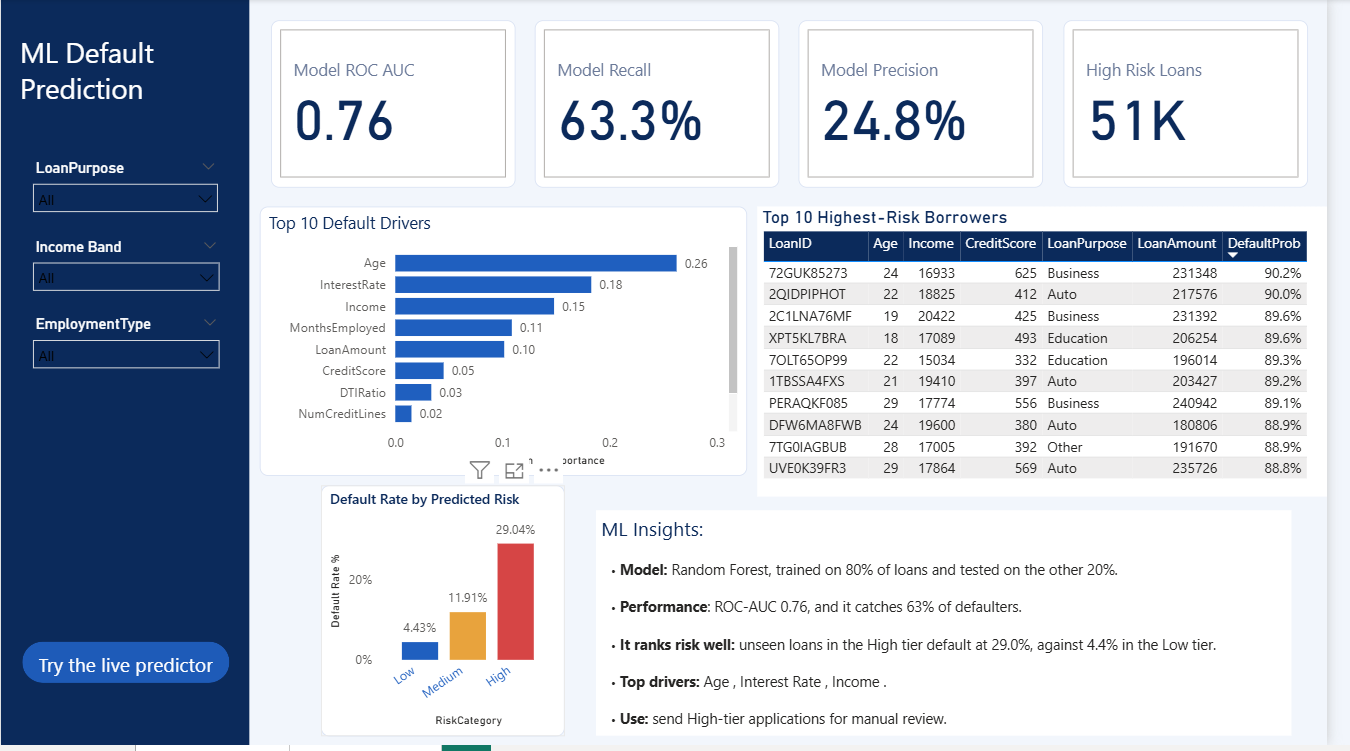

Layout of this report page (visuals, bound fields, positions):
{"tool":"powerbi","page":{"name":"ML Predictions","canvas":[1280,720],"ordinal":1},"visuals":[{"type":"shape","box":[0,0,239.7,720.2],"z":0},{"type":"slicer","fields":{"Values":["Loan_default.LoanPurpose"]},"box":[20.6,149.6,199,64.5],"z":1000},{"type":"slicer","fields":{"Values":["Loan_default.Income Band"]},"box":[20.6,225,200.3,64],"z":2000},{"type":"slicer","fields":{"Values":["Loan_default.EmploymentType"]},"box":[20.6,300.5,200.3,64],"z":3000},{"type":"textbox","box":[13.5,28.1,214,94.2],"z":4000},{"type":"cardVisual","fields":{"Data":["Loan_default.Model ROC AUC"]},"box":[260,20,236,161.9],"z":5000},{"type":"cardVisual","fields":{"Data":["Loan_default.Model Recall"]},"box":[515,20.6,236,161.9],"z":6000},{"type":"cardVisual","fields":{"Data":["Loan_default.Model Precision"]},"box":[770,20,236.2,161.2],"z":7000},{"type":"cardVisual","fields":{"Data":["Loan_default.High Risk Loans"]},"box":[1025,20.6,236,161.9],"z":8000},{"type":"clusteredBarChart","title":"Top 10 Default Drivers","fields":{"Category":["feature_importance.Feature"],"Y":["Sum(feature_importance.Importance)"]},"box":[252.1,197.9,463.3,270.2],"z":9000},{"type":"clusteredColumnChart","title":"Default Rate by Predicted Risk","fields":{"Y":["Loan_default.Default Rate %"],"Category":["loan_predictions.RiskCategory"]},"box":[269,492.2,275.1,218.4],"z":10000},{"type":"tableEx","title":"Top 10 Highest-Risk Borrowers","fields":{"Values":["Loan_default.LoanID","Loan_default.Age","Loan_default.Income","Loan_default.CreditScore","Loan_default.LoanPurpose","Loan_default.LoanAmount","loan_predictions.DefaultProb"]},"box":[729.9,197.9,540.5,270.2],"z":11000},{"type":"textbox","box":[573.8,493.8,671.2,217.5],"z":12000},{"type":"actionButton","box":[20,620,200,40],"z":13000}]}

Visuals, with their boxes in screenshot pixels (x1, y1, x2, y2), scaled from the page's 1280x720 canvas onto the 1350x751 screenshot:
shape: 0:0:253:750
slicer - Loan_default.LoanPurpose: 22:156:232:223
slicer - Loan_default.Income Band: 22:235:233:301
slicer - Loan_default.EmploymentType: 22:313:233:380
textbox: 14:29:240:128
cardVisual - Loan_default.Model ROC AUC: 274:21:523:190
cardVisual - Loan_default.Model Recall: 543:21:792:190
cardVisual - Loan_default.Model Precision: 812:21:1061:189
cardVisual - Loan_default.High Risk Loans: 1081:21:1330:190
"Top 10 Default Drivers" clusteredBarChart: 266:206:755:488
"Default Rate by Predicted Risk" clusteredColumnChart: 284:513:574:741
"Top 10 Highest-Risk Borrowers" tableEx: 770:206:1340:488
textbox: 605:515:1313:742
actionButton: 21:647:232:688
